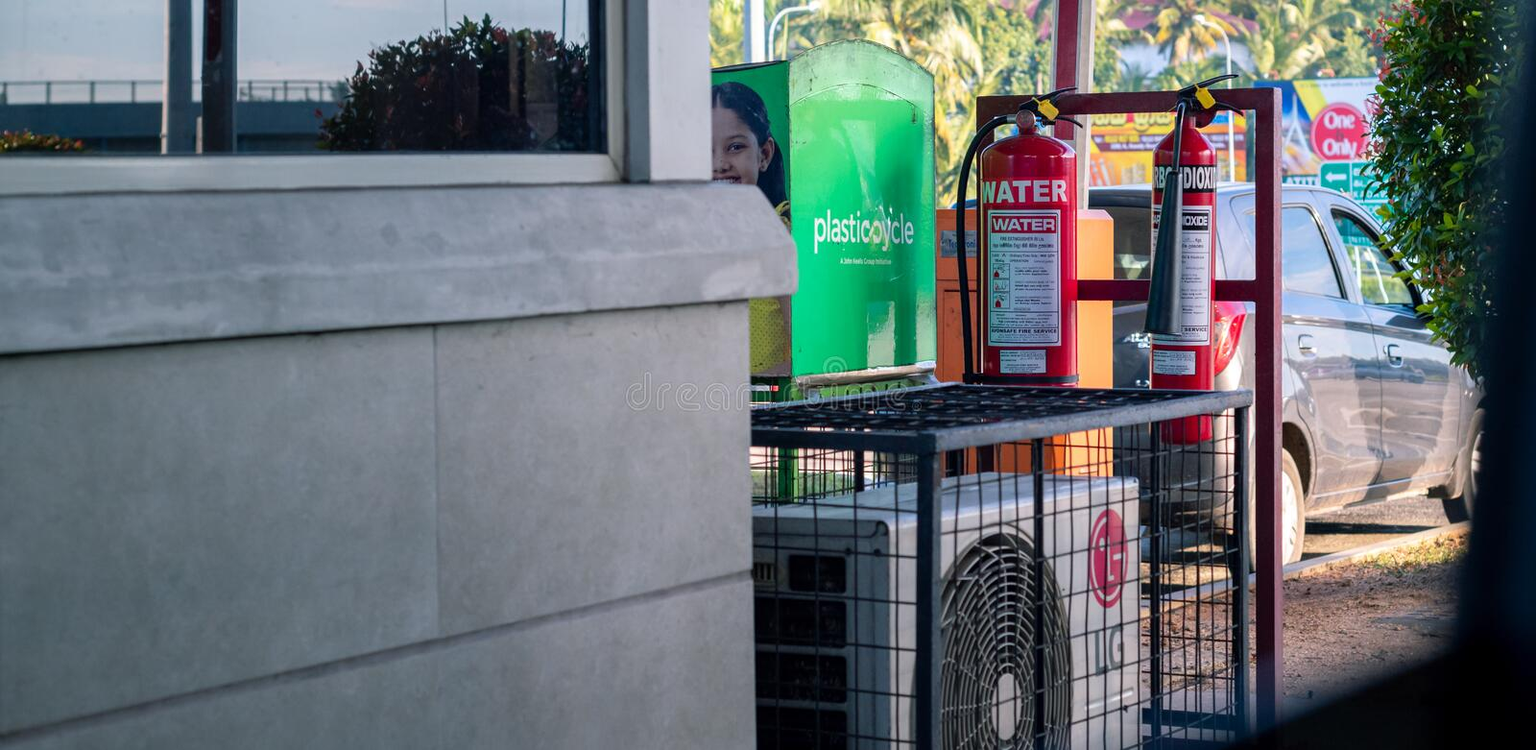fire_extinguisher: (954, 88, 1084, 388), (1144, 74, 1245, 445)
